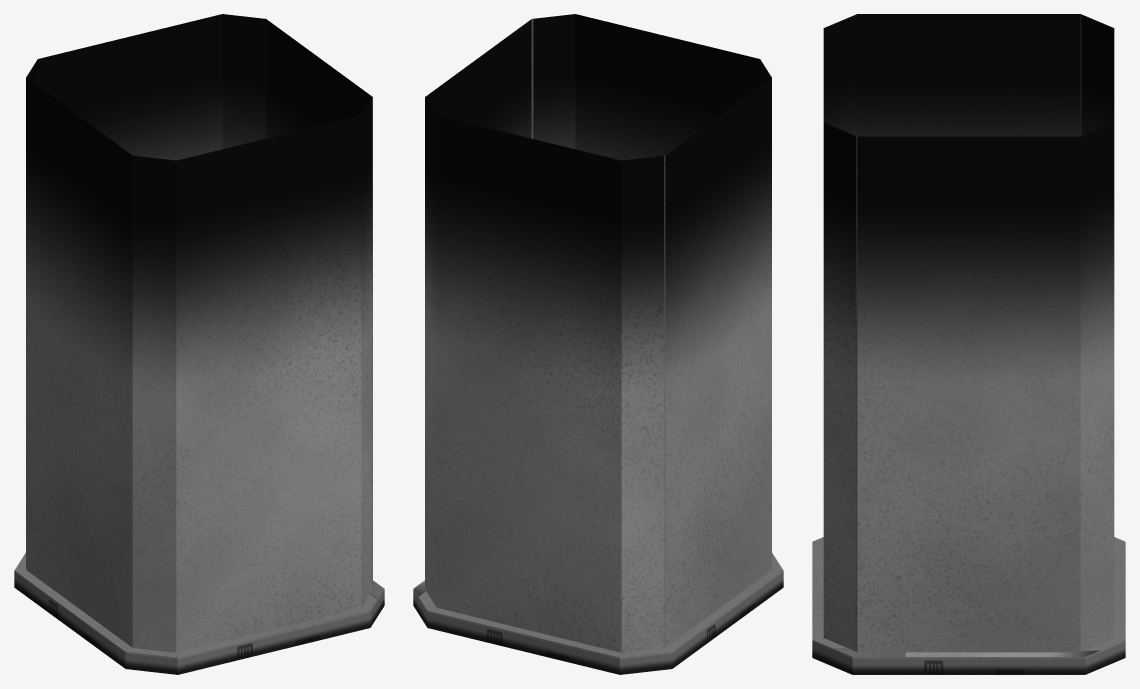
File: Pillar.FBX
3 renders of one model, left to right at view 1: azimuth 30°, elevation 25°; view 2: azimuth 150°, elevation 25°; view 3: azimuth 270°, elevation 25°, orthographic. The views are drawn at different scales.
Parts seen in each view (by area): view 1: Pillar; view 2: Pillar; view 3: Pillar.
Boxes of the visible parts, <box> form: Pillar: <box>14,14,384,674</box>; Pillar: <box>413,14,783,674</box>; Pillar: <box>812,14,1125,674</box>.
Bounding box in the file's own units: 1.62 × 1.62 × 3.04.
1 material, 1 textured.
